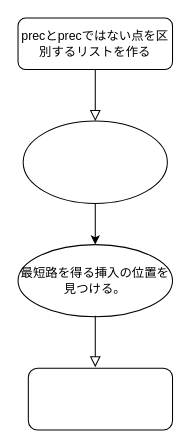
The diagram is 191 pixels wide and 448 high, and some of its shapes have lost their labels. The shapes that lost their labels are listed below. From the top down, each one's box as (x1, y1, x2, y2) in pixels, then its label:
(22, 120, 167, 203): precではない点をランダムにシャッフルする。
(27, 367, 173, 430): 見つけた位置にリストの各点を挿入する。
